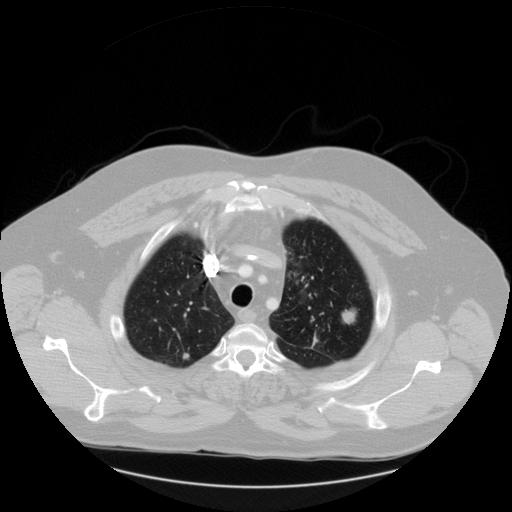nodule: (337, 305, 359, 327)
